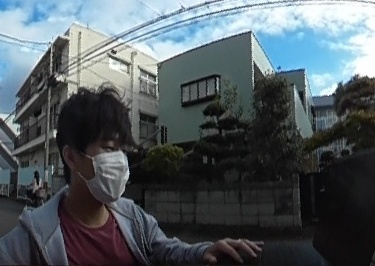person: (28, 169, 45, 201)
